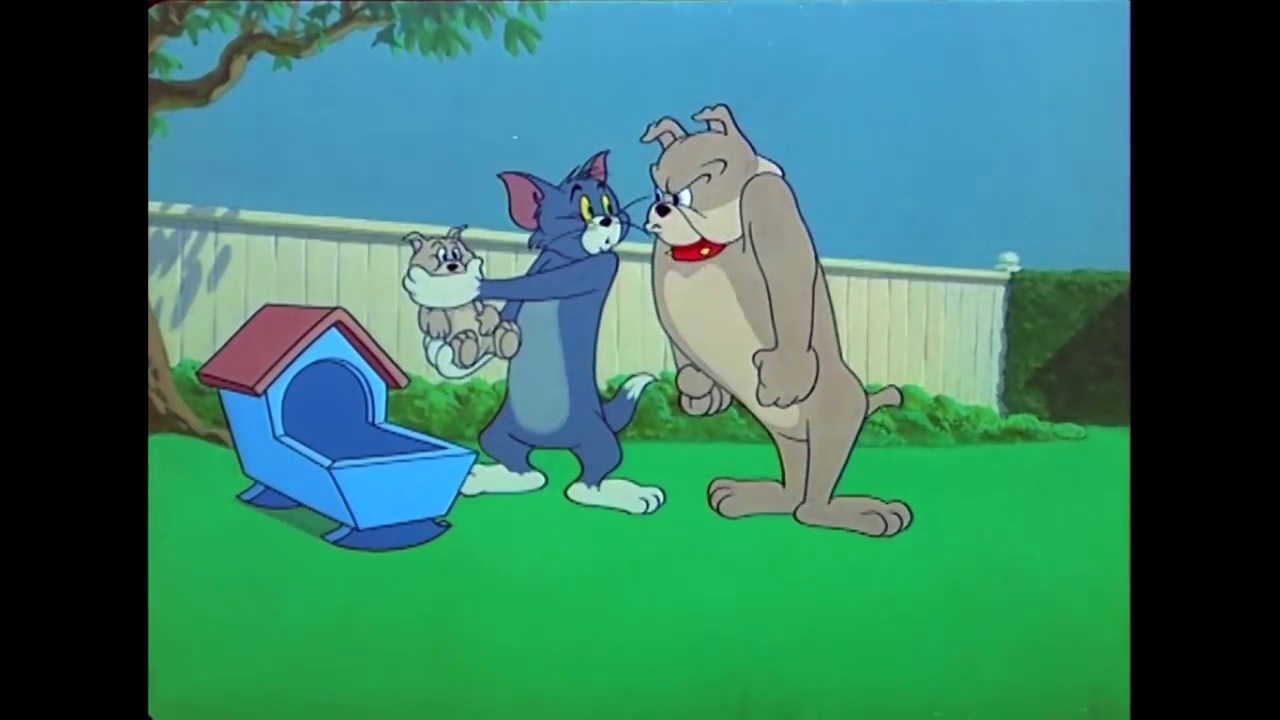spike: (636, 103, 789, 266)
tom: (497, 147, 634, 263)
